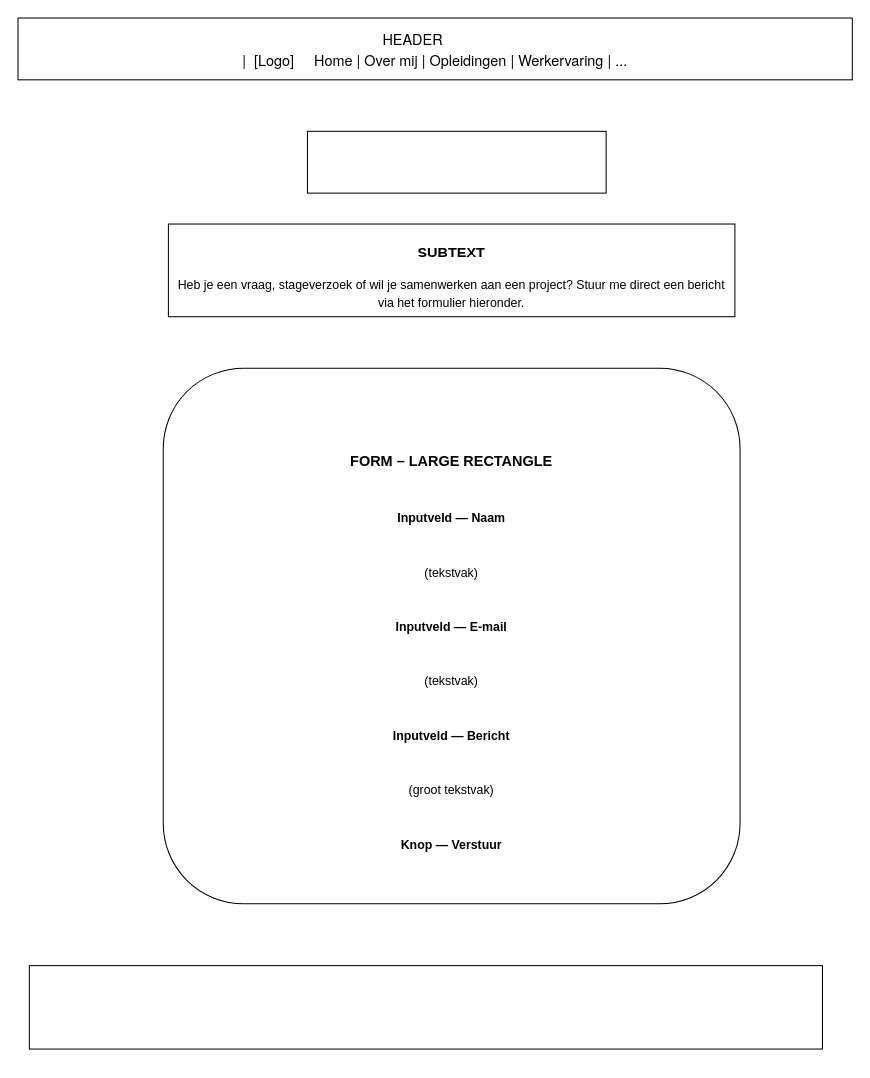
The diagram is 870 pixels wide and 1078 high, and some of its shapes have lost their labels. The centre of each missing label's shape, as x and y in pixels:
FOOTER Tekst + Social Icons (Contact + GitHub): point (425, 1007)
PAGE TITLE "Neem contact op ": point (456, 161)
